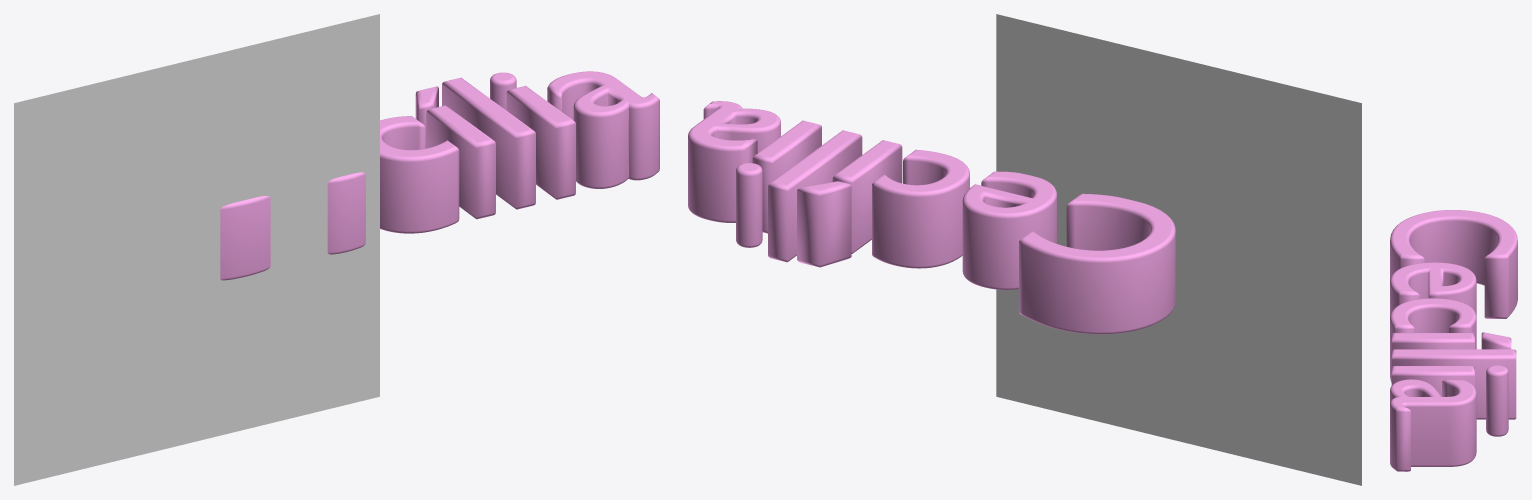
File: cecilia.gltf
3 views of the same model, side by side, from view 1: azimuth 30°, elevation 25°; view 2: azimuth 150°, elevation 25°; view 3: azimuth 270°, elevation 25° (orthographic). The views are drawn at different scales.
Visible parts, largest first — view 1: Plane, Text.001; view 2: Plane, Text.001; view 3: Text.001.
Boxes of the visible parts, x1,y1,x2,y2 form: Plane: [14, 14, 379, 485]; Text.001: [220, 71, 659, 280]; Plane: [996, 14, 1361, 485]; Text.001: [688, 101, 1175, 334]; Text.001: [1390, 210, 1517, 472].
Size of what is drawn, in the model's own units: 3.54 by 2 by 0.72.
